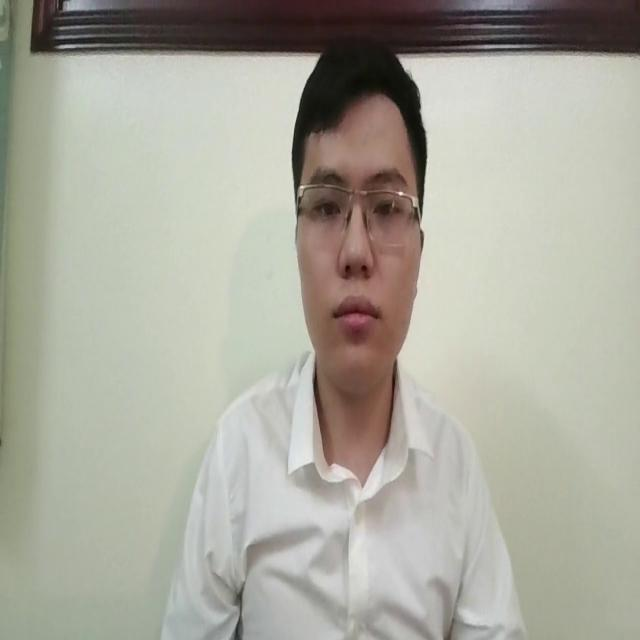student: (156, 28, 526, 640)
